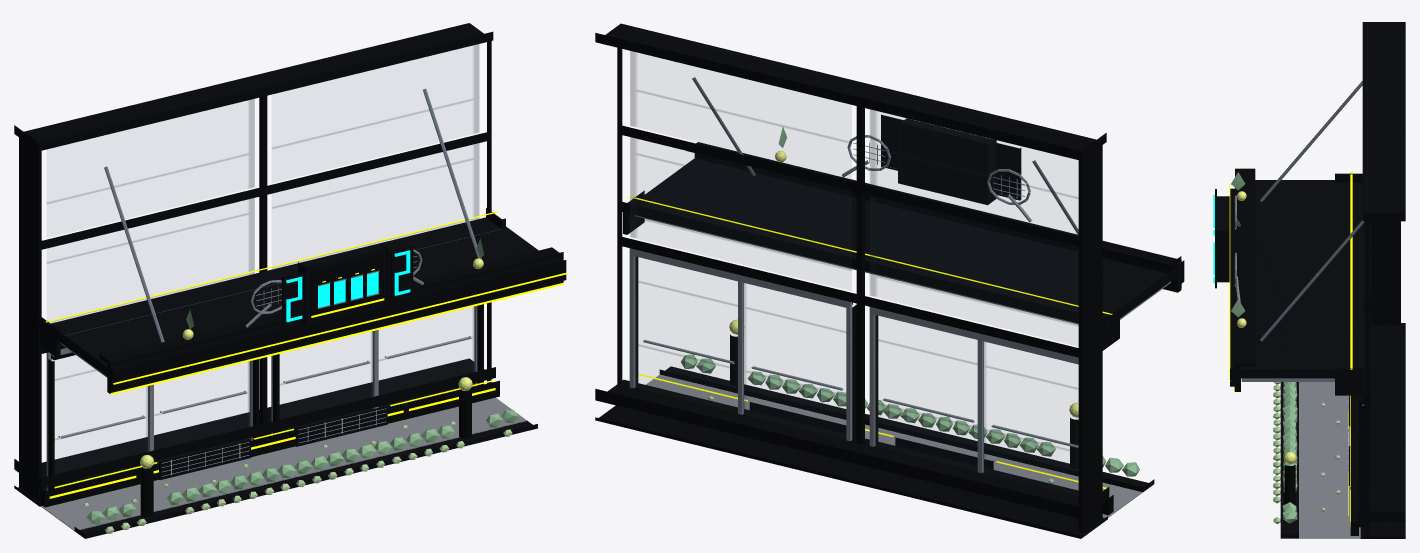
The model's file is tt_secondary_entrance_s.glb.
3 views of the same model, side by side, from view 1: azimuth 30°, elevation 25°; view 2: azimuth 150°, elevation 25°; view 3: azimuth 270°, elevation 25° (orthographic). The views are drawn at different scales.
Parts seen in each view (by area): view 1: Frame, Canopy, Fascia_Gunmetal, Threshold_Mat, Hedge_Edge, Terrace_Kerb, Kick_Panels, Fascia_Slate, Court_Line_LED, Scoreboard, Scoreboard_Well, Door_Stiles (+15 smaller); view 2: Frame, Canopy, Door_Stiles, Scoreboard, Terrace_Kerb, Threshold_Mat, Hedge_Edge, Fascia_Slate, Fascia_Gunmetal, Glass_Upper_10, Glass_Upper_00, Glyph_Plaque (+13 smaller); view 3: Frame, Canopy, Threshold_Mat, Fascia_Gunmetal, Hedge_Edge, Terrace_Kerb, Scoreboard, Tie_Rods, Court_Line_LED, Hedge_Edge_Light, Ball_Bollards, Canopy_Soffit (+2 smaller).
Part boxes in pixels (left/top/right/bottom): Frame: left=14, top=23, right=499, bottom=507; Canopy: left=39, top=208, right=538, bottom=375; Fascia_Gunmetal: left=99, top=247, right=566, bottom=390; Threshold_Mat: left=41, top=397, right=527, bottom=530; Hedge_Edge: left=86, top=409, right=518, bottom=524; Terrace_Kerb: left=74, top=421, right=537, bottom=538; Kick_Panels: left=159, top=405, right=387, bottom=479; Fascia_Slate: left=107, top=255, right=563, bottom=393; Court_Line_LED: left=45, top=211, right=566, bottom=394; Scoreboard: left=298, top=243, right=390, bottom=324; Scoreboard_Well: left=310, top=254, right=383, bottom=317; Door_Stiles: left=46, top=306, right=477, bottom=490; Frame: left=595, top=23, right=1113, bottom=538; Canopy: left=622, top=158, right=1177, bottom=350; Door_Stiles: left=629, top=248, right=1078, bottom=473; Scoreboard: left=898, top=118, right=996, bottom=205; Terrace_Kerb: left=659, top=366, right=1154, bottom=491; Threshold_Mat: left=646, top=374, right=1142, bottom=518; Hedge_Edge: left=681, top=354, right=1139, bottom=476; Fascia_Slate: left=694, top=153, right=1181, bottom=292; Fascia_Gunmetal: left=686, top=142, right=1184, bottom=283; Glass_Upper_10: left=630, top=137, right=851, bottom=270; Glass_Upper_00: left=870, top=196, right=1078, bottom=326; Glyph_Plaque: left=882, top=117, right=1018, bottom=198; Frame: left=1350, top=22, right=1405, bottom=538; Canopy: left=1240, top=173, right=1363, bottom=395; Threshold_Mat: left=1299, top=382, right=1359, bottom=538; Fascia_Gunmetal: left=1230, top=168, right=1255, bottom=386; Hedge_Edge: left=1282, top=382, right=1297, bottom=523; Terrace_Kerb: left=1280, top=382, right=1299, bottom=538; Scoreboard: left=1215, top=196, right=1229, bottom=282; Tie_Rods: left=1260, top=81, right=1364, bottom=341; Court_Line_LED: left=1229, top=171, right=1352, bottom=392; Hedge_Edge_Light: left=1273, top=382, right=1280, bottom=523; Ball_Bollards: left=1284, top=464, right=1295, bottom=505; Canopy_Soffit: left=1241, top=378, right=1334, bottom=381.
Size of what is drawn, in the model's own units: 8 by 6.1 by 3.26.
Materials: 12 (6 with a texture image).
